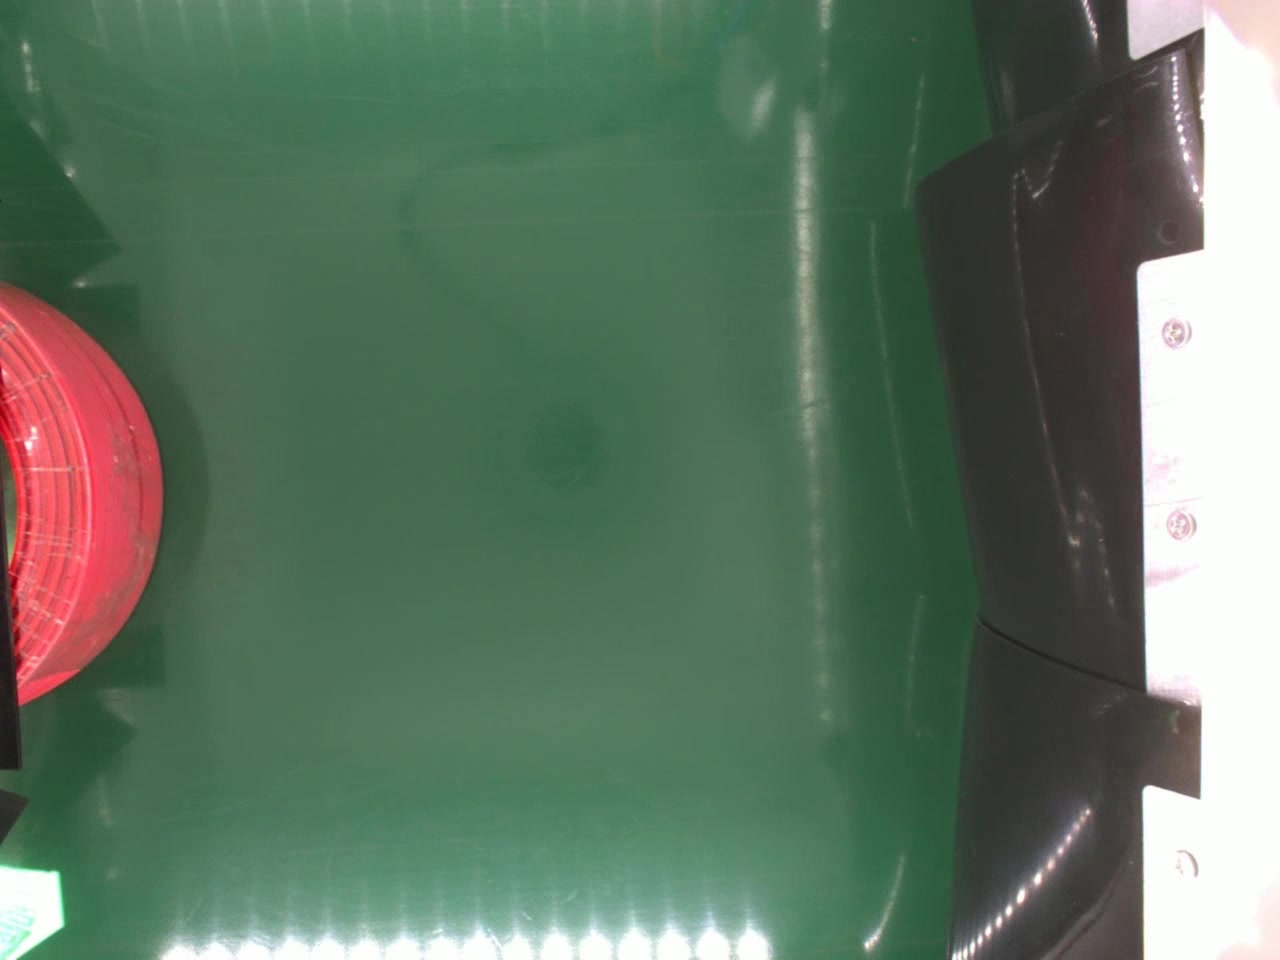red: (0, 283, 165, 699)
